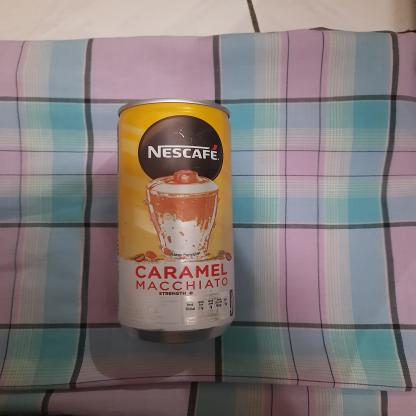mouse: (110, 92, 238, 350)
